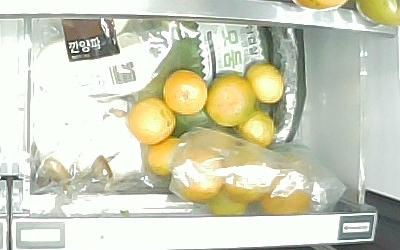tangerine: (206, 73, 255, 127), (128, 98, 177, 146), (163, 69, 208, 115), (144, 136, 196, 172), (245, 61, 285, 106), (234, 111, 275, 151)
tangerine_vinyl: (172, 149, 222, 202), (221, 155, 276, 202), (260, 170, 316, 215), (207, 186, 250, 216)
